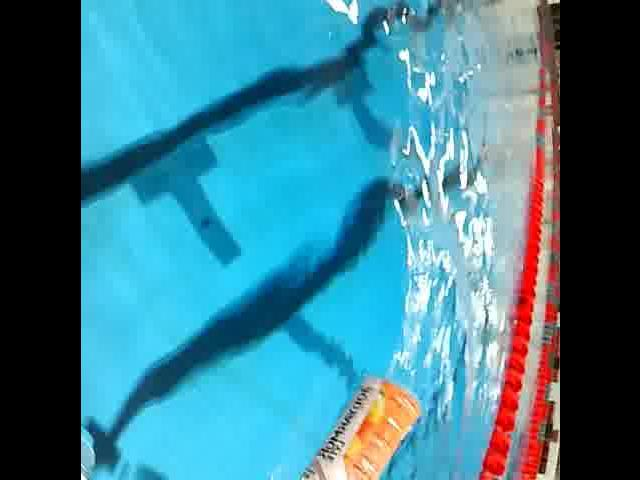Bottle: (271, 372, 423, 480)
